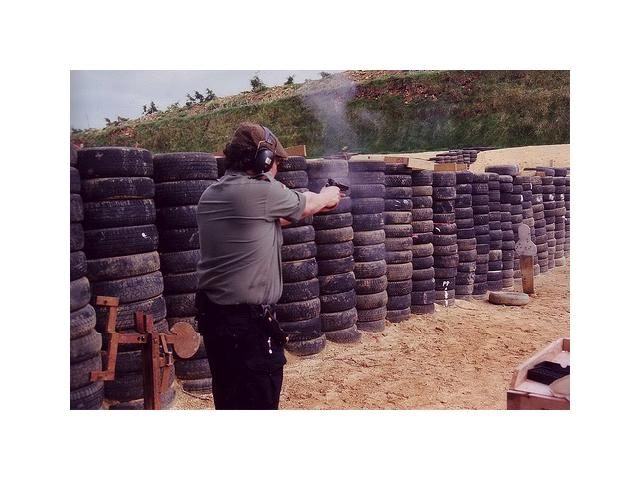pistol: (321, 176, 349, 213)
